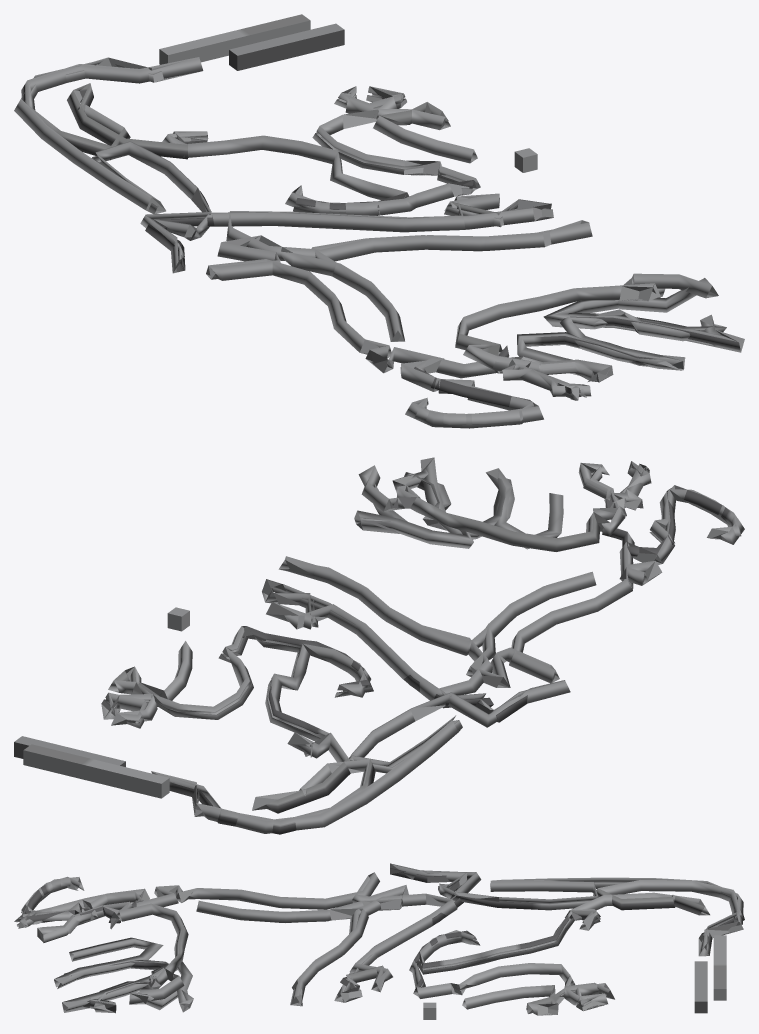
3 views of the same model, one above another, from view 1: azimuth 30°, elevation 25°; view 2: azimuth 150°, elevation 25°; view 3: azimuth 270°, elevation 25° (orthographic). The views are drawn at different scales.
Bounding box in the file's own units: 1.06 × 0.0923 × 2.24.
